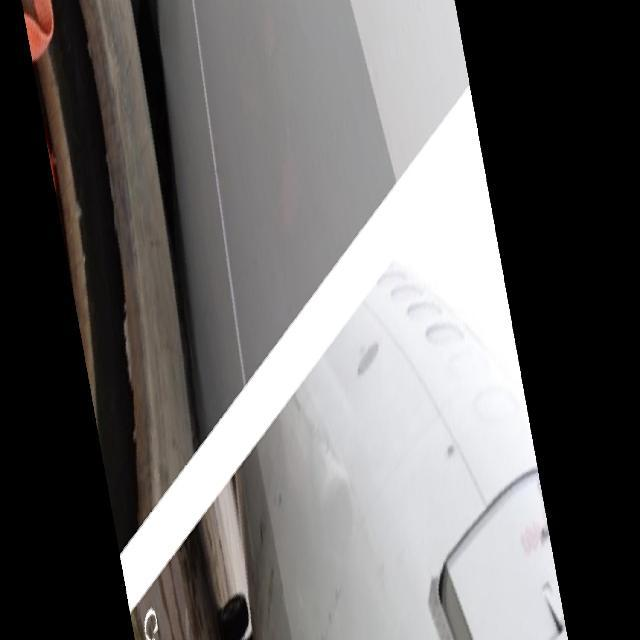dent: (289, 393, 354, 491), (161, 5, 193, 131)
